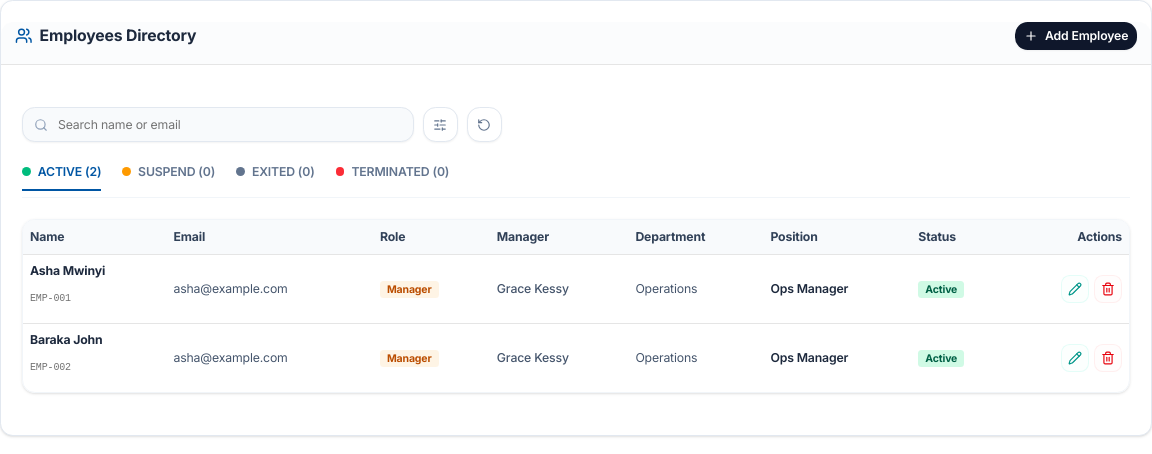
Scenario: HRStaffSubtab › filters by name, email or employee id search
Type "emp-002" into the field with placeholder "Search name or email". click: [218, 124]
box: [22,107,414,142]
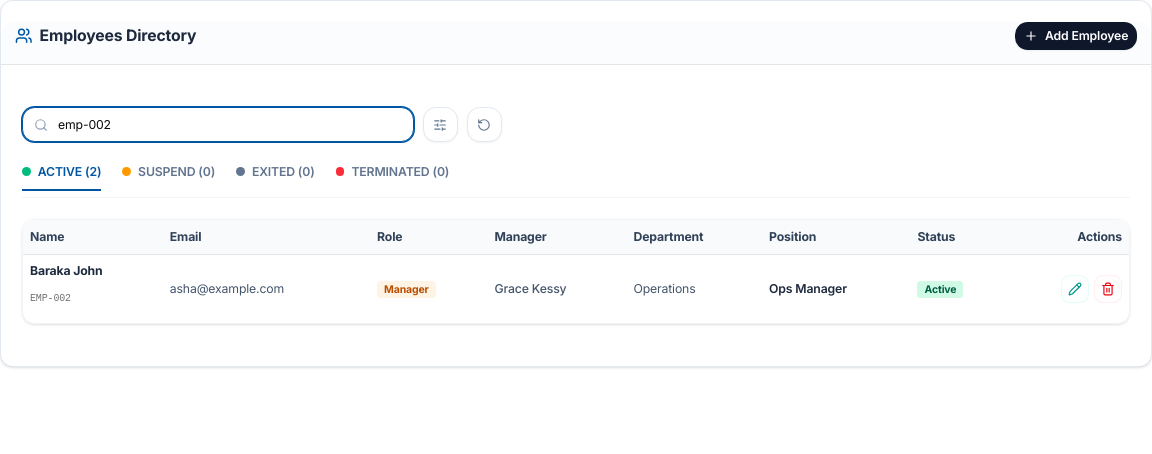
Expected: the text "Baraka John" is shown, [30,263,102,278]
Now the text "Asha Mwinyi" is gone
